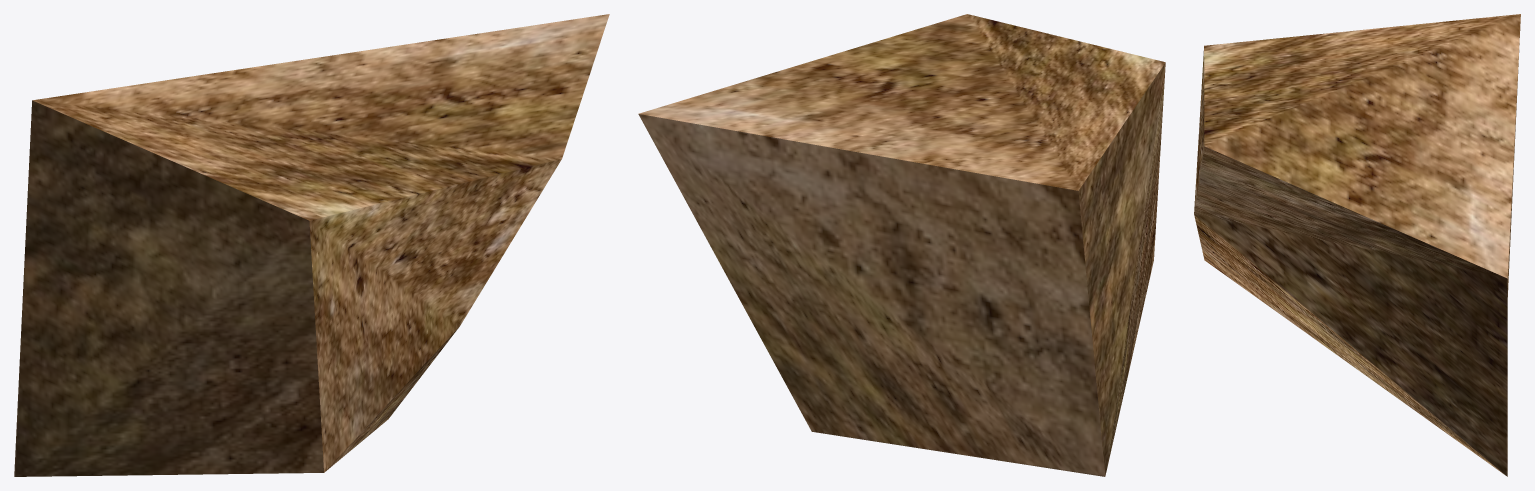
File: rock.fbx
3 views of the same model, side by side, from view 1: azimuth 30°, elevation 25°; view 2: azimuth 150°, elevation 25°; view 3: azimuth 270°, elevation 25° (orthographic). The views are drawn at different scales.
Visible parts, largest first — view 1: pCube1; view 2: pCube1; view 3: pCube1.
Boxes of the visible parts, x1,y1,x2,y2 form: pCube1: (14, 14, 609, 476); pCube1: (638, 14, 1165, 476); pCube1: (1194, 14, 1520, 476).
Bounding box in the file's own units: 1.85 × 1.08 × 1.19.
1 material, 1 textured.
